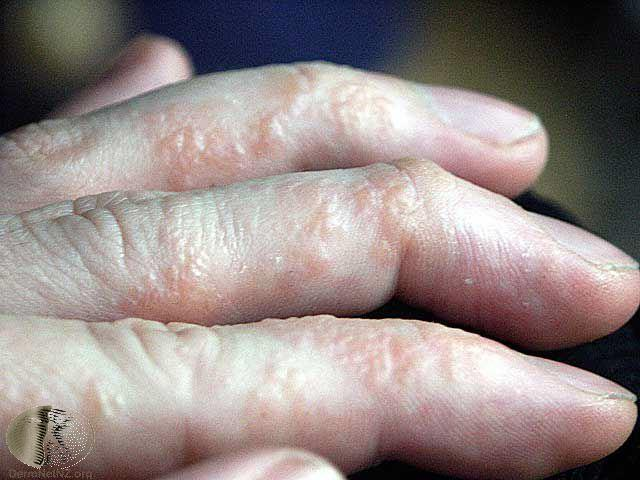Diseased: (40, 109, 503, 408)
